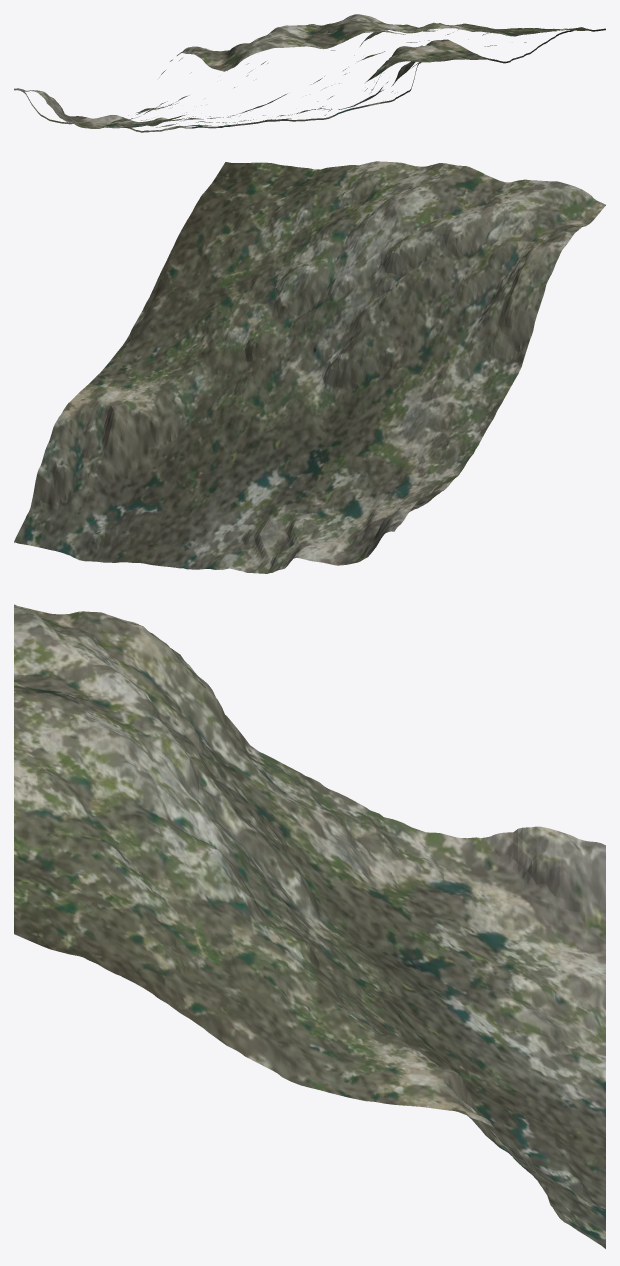
3 renders of one model, top to bottom at view 1: azimuth 30°, elevation 25°; view 2: azimuth 150°, elevation 25°; view 3: azimuth 270°, elevation 25°, orthographic. The views are drawn at different scales.
Size of the model in its own units: 250 by 183 by 241.
Materials: 1 (1 with a texture image).
